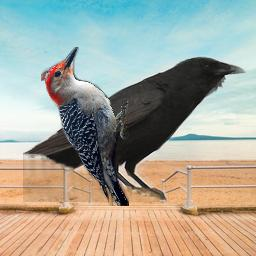Crow: (23, 54, 246, 202)
Woodpecker: (41, 47, 129, 206)
